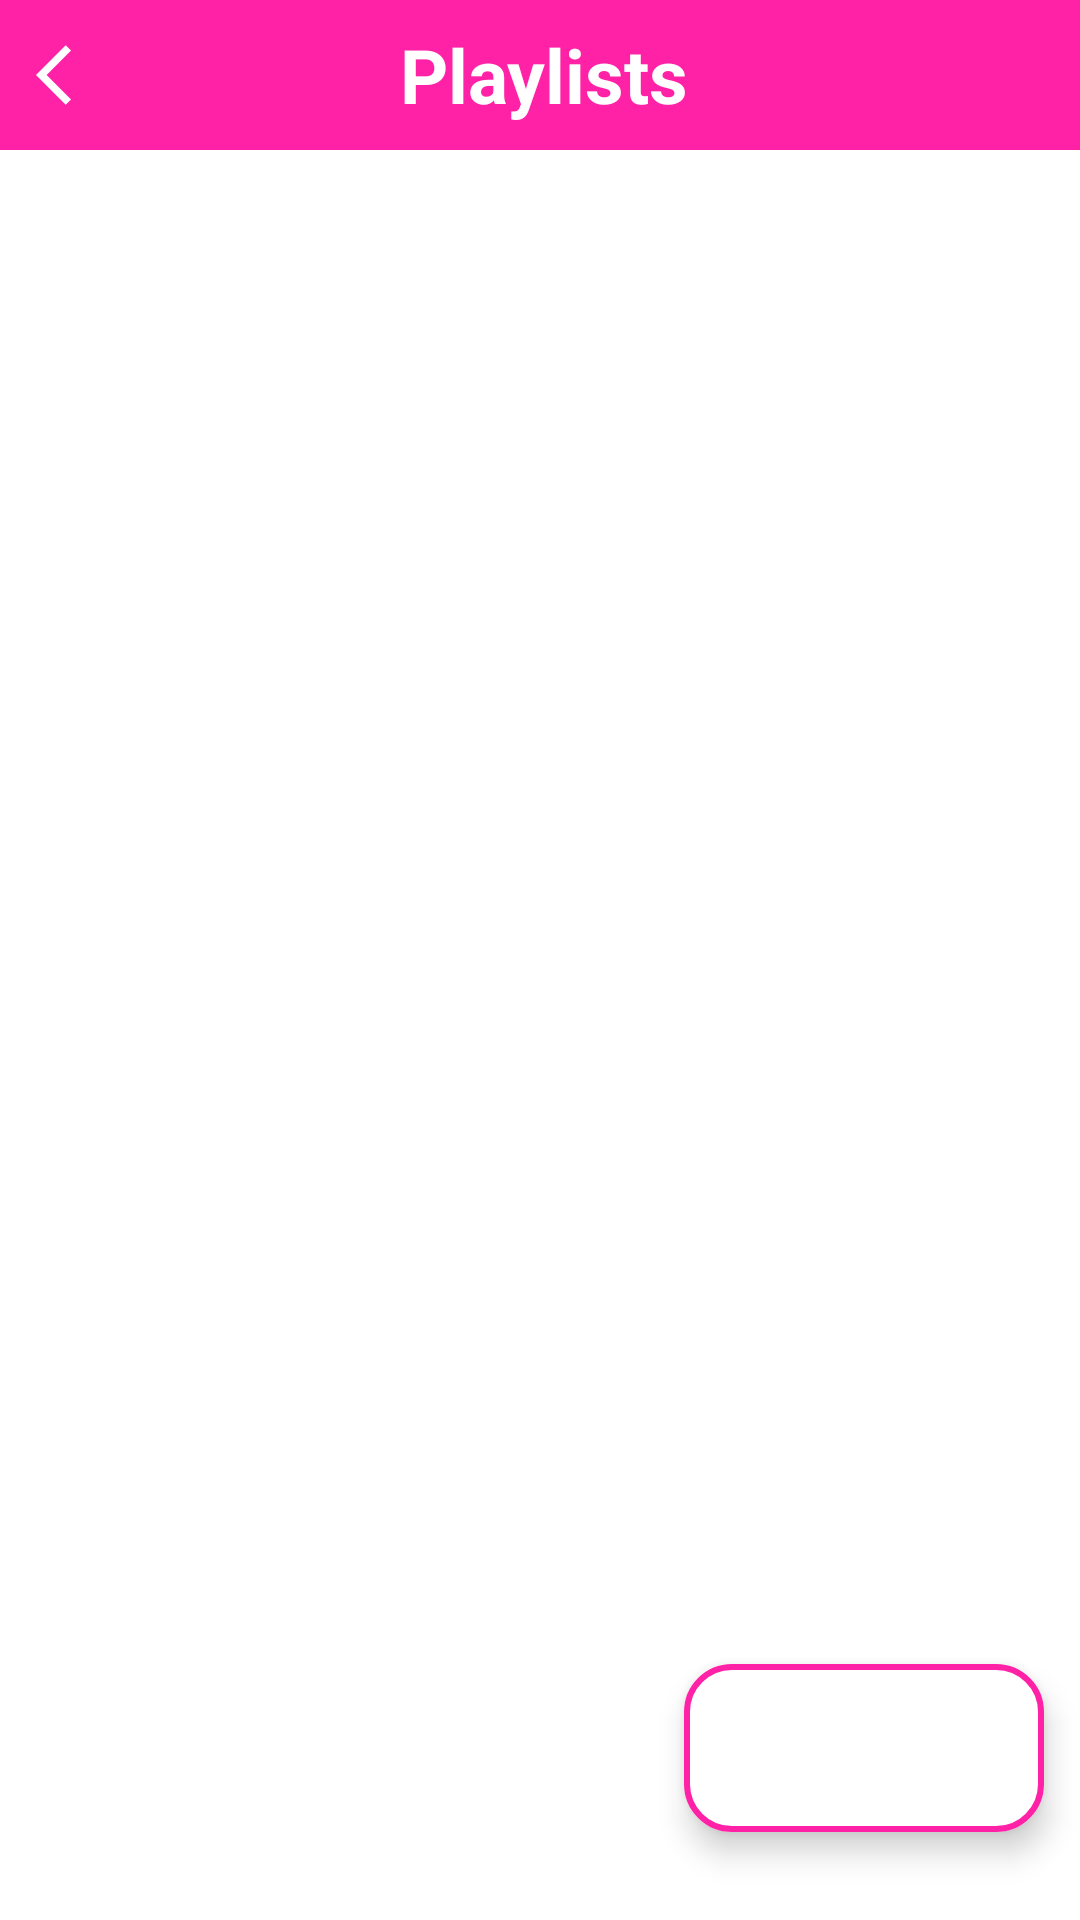

Screen size 1080w x 1920h. Icon name, then its box in pixels as (x1, y1, x2, y2):
Back: (36, 45, 71, 105)
